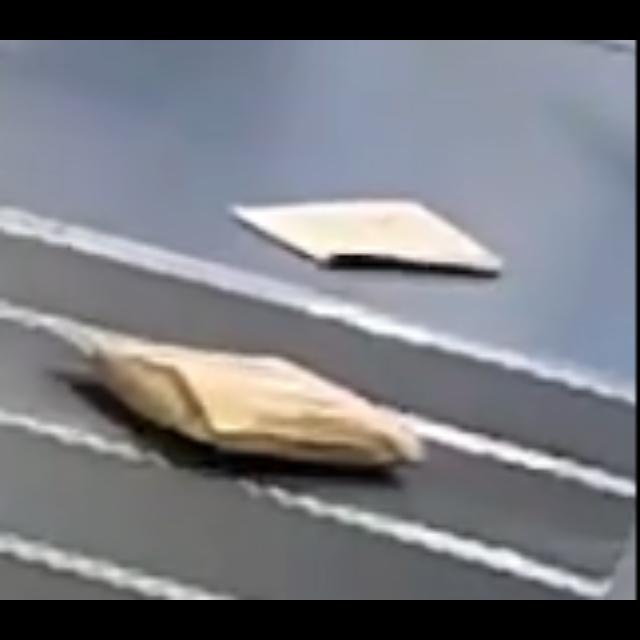mailer: (82, 332, 424, 473), (232, 197, 503, 279)
